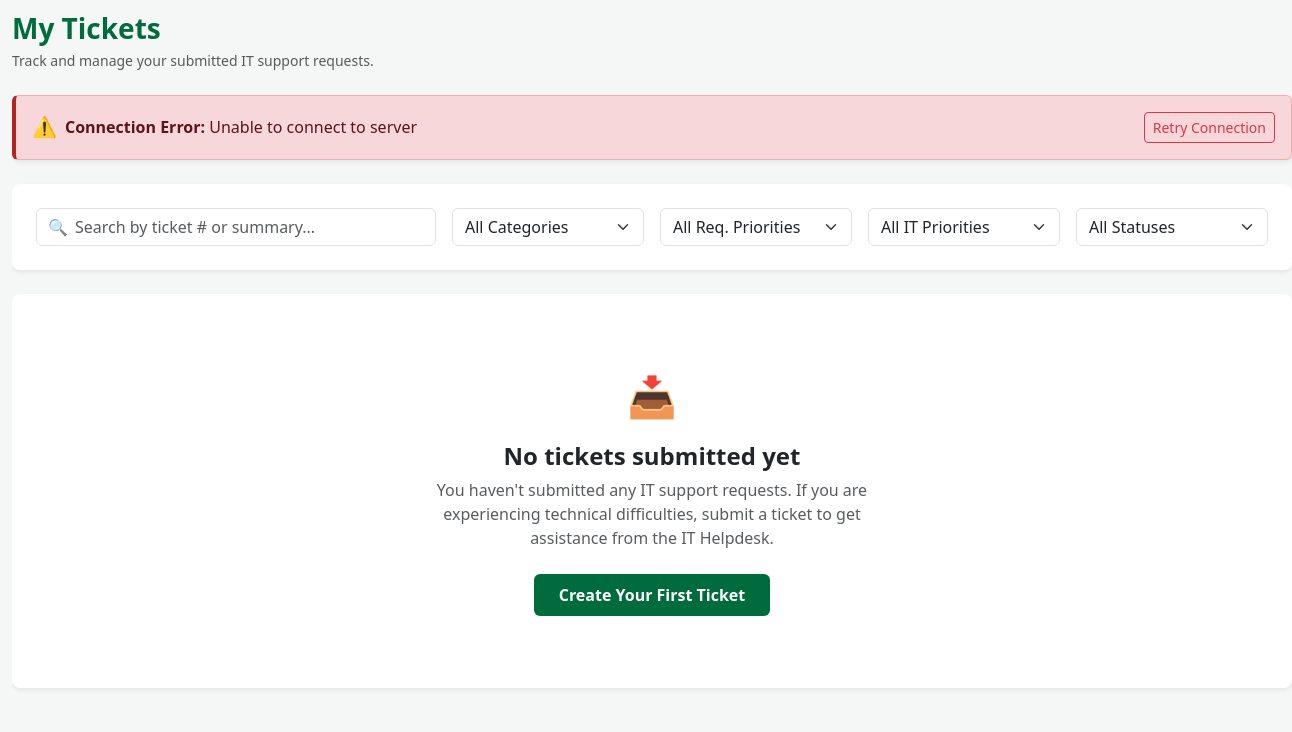
Test: Feature 8 / Feature 4: My Tickets Component Tests › UI-MYT-12: Displays connection error banner and recovers on Retry Connection click
This screenshot has width=1292, height=732.
Expected: the text "Connection Error: Unable to connect to server" is shown, [65, 115, 417, 139]
// Click Retry Connection
Click the button with test id "error-retry-btn": (1209, 127) [1144, 112, 1275, 143]
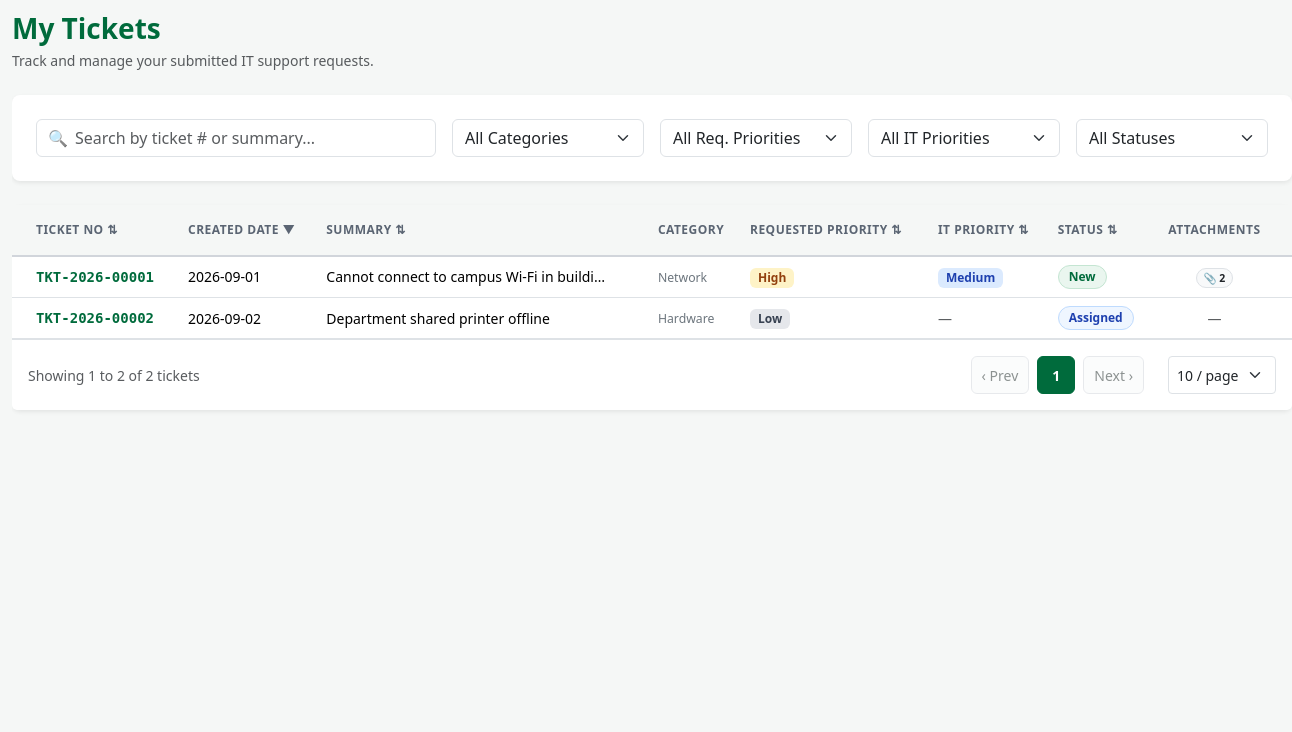
Expected: the text "Unable to connect to server" is gone
Expected: the text "TKT-2026-00001" is shown, [36, 269, 154, 285]
